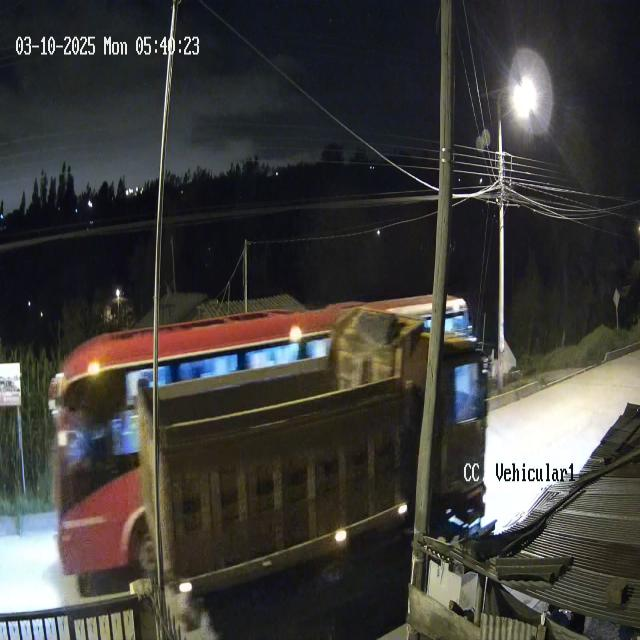TRUCK: (136, 315, 491, 600)
